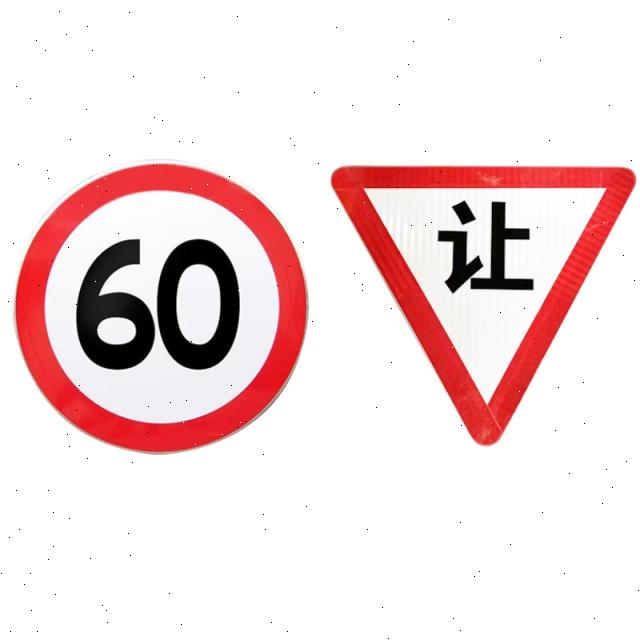speed limit 60: (14, 162, 308, 456)
